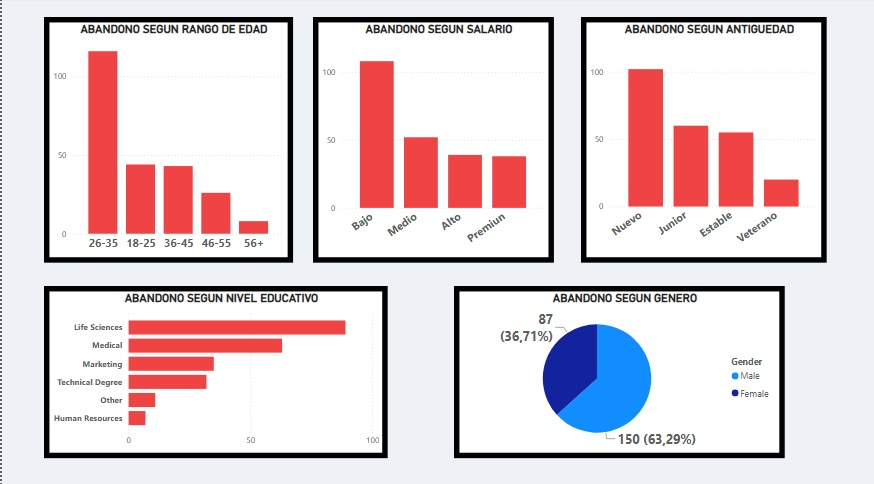

The dashboard page shown, as its layout file describes it:
{"tool":"powerbi","page":{"name":"Workforce Analysis","canvas":[1280,720],"ordinal":1},"visuals":[{"type":"clusteredColumnChart","title":"ABANDONO SEGUN SALARIO","fields":{"Category":["employees_hr_final.Grupo_salario"],"Y":["calculo.empleados dado baja"]},"box":[457,29.4,354.1,361.5],"z":0},{"type":"clusteredColumnChart","title":"ABANDONO SEGUN RANGO DE EDAD","fields":{"Category":["employees_hr_final.Rango Edad"],"Y":["calculo.empleados dado baja"]},"box":[61.7,29.4,365.9,361.5],"z":1000},{"type":"clusteredColumnChart","title":"ABANDONO SEGUN ANTIGUEDAD","fields":{"Y":["calculo.empleados dado baja"],"Category":["employees_hr_final.Grupo_negocio"]},"box":[850.8,29.4,361.5,361.5],"z":2000},{"type":"clusteredBarChart","title":"ABANDONO SEGUN NIVEL EDUCATIVO","fields":{"Category":["employees_hr_final.EducationField"],"Y":["calculo.empleados dado baja"]},"box":[61.7,424.7,505.5,252.7],"z":3000},{"type":"pieChart","title":"ABANDONO SEGUN GENERO","fields":{"Category":["employees_hr_final.Gender"],"Y":["calculo.empleados dado baja"]},"box":[664.2,424.7,486.4,252.7],"z":4000}]}

Visuals, with their boxes in screenshot pixels (x1, y1, x2, y2), scaled from the page's 1280x720 canvas onto the 874x484 screenshot:
"ABANDONO SEGUN SALARIO" clusteredColumnChart: locate(312, 20, 554, 263)
"ABANDONO SEGUN RANGO DE EDAD" clusteredColumnChart: locate(42, 20, 292, 263)
"ABANDONO SEGUN ANTIGUEDAD" clusteredColumnChart: locate(581, 20, 828, 263)
"ABANDONO SEGUN NIVEL EDUCATIVO" clusteredBarChart: locate(42, 285, 387, 455)
"ABANDONO SEGUN GENERO" pieChart: locate(454, 285, 786, 455)
